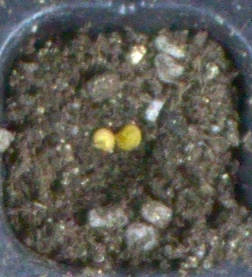chilli seed: (114, 122, 141, 150), (92, 127, 114, 154)
